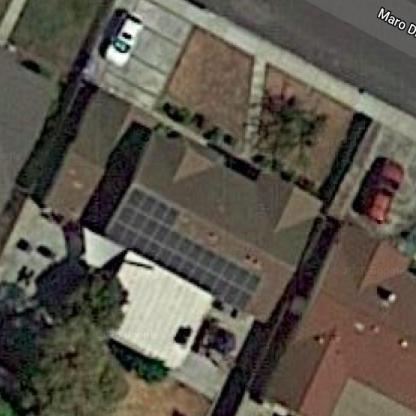car: (361, 149, 401, 230), (102, 4, 140, 73)
solar_panel: (98, 184, 272, 311)
